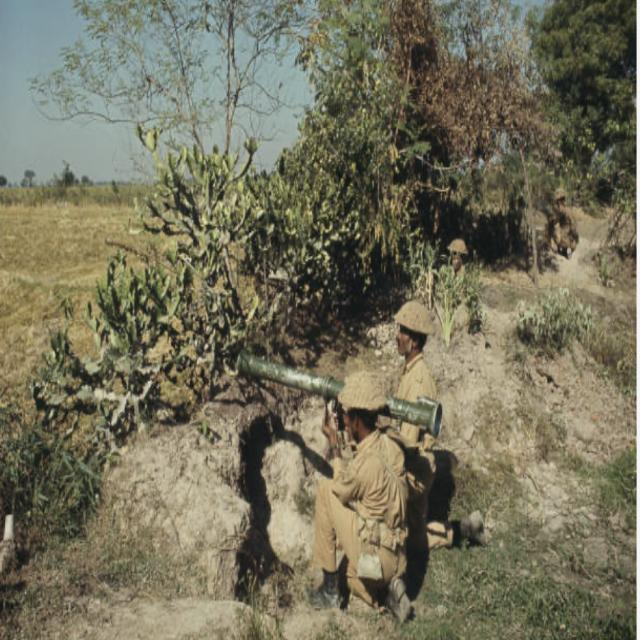bazooka: (226, 345, 447, 456)
